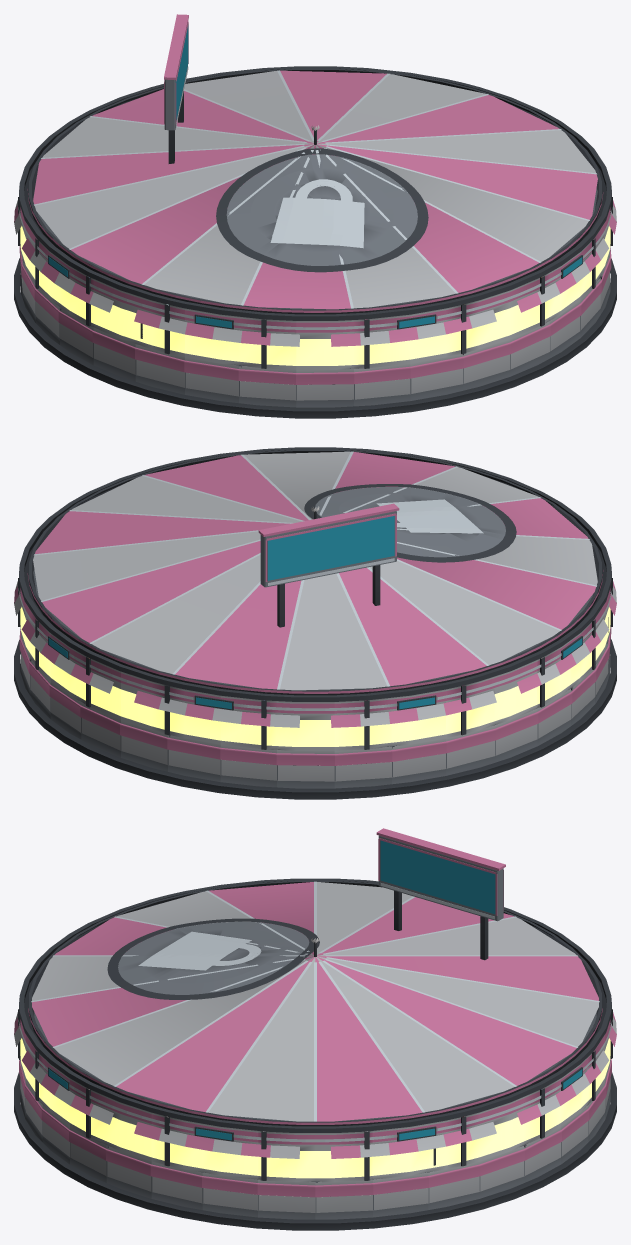
Rendered from retail_l_far.glb.
The picture shows the model from 3 angles, top to bottom: view 1: azimuth 30°, elevation 25°; view 2: azimuth 150°, elevation 25°; view 3: azimuth 270°, elevation 25°; orthographic projection.
Parts seen in each view (by area): view 1: Roof, Base; view 2: Roof, Base; view 3: Roof, Base.
Boxes of the visible parts, bbox=[...] form: Roof: bbox=[14, 14, 616, 369]; Base: bbox=[14, 246, 616, 418]; Roof: bbox=[14, 447, 616, 750]; Base: bbox=[14, 627, 616, 799]; Roof: bbox=[14, 828, 616, 1182]; Base: bbox=[14, 1058, 616, 1230].
Bounding box in the file's own units: 18.96 × 7.55 × 18.96.
